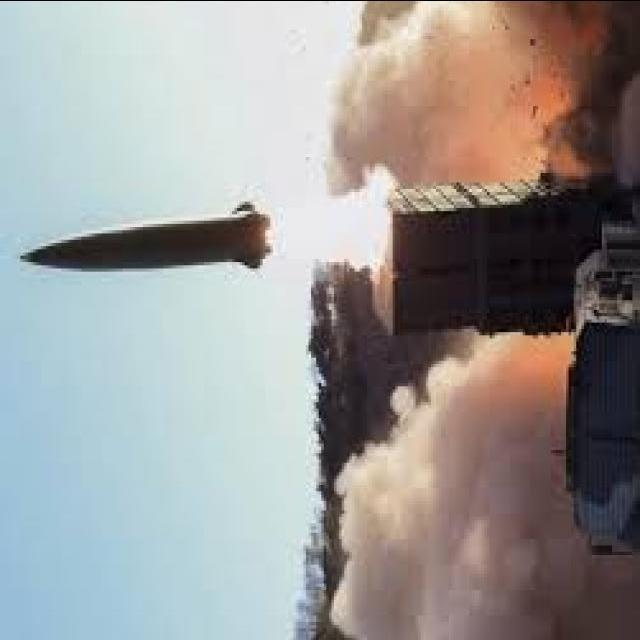missile: (17, 188, 273, 279)
